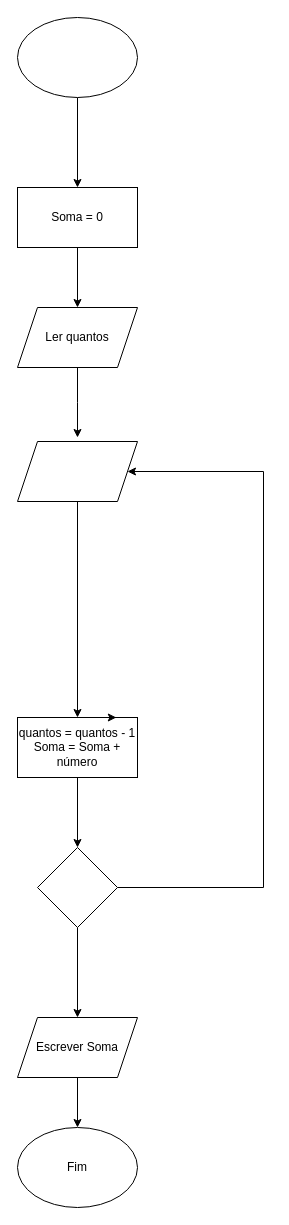
This 289x1225 diagram has some shape labels left out. The centre of each missing label's shape, as x and y in pixels:
Inicio: pixel 77 57
Ler Número: pixel 77 471
Quantos <= 0: pixel 77 887
